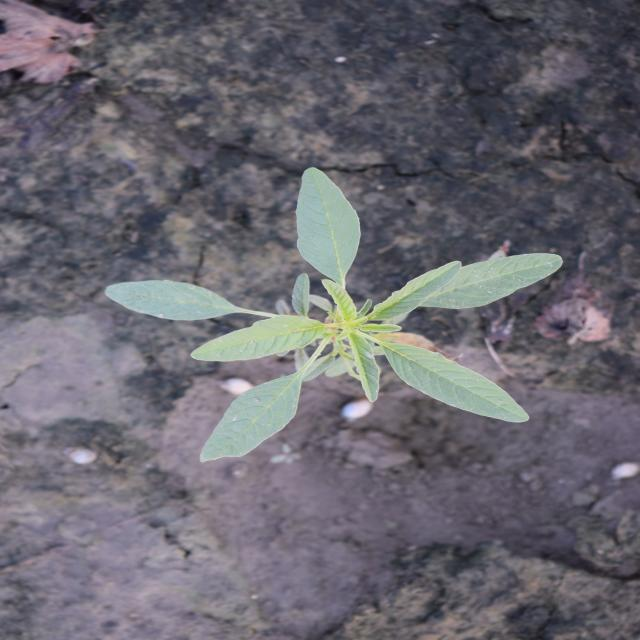Waterhemp: (102, 162, 566, 464)
